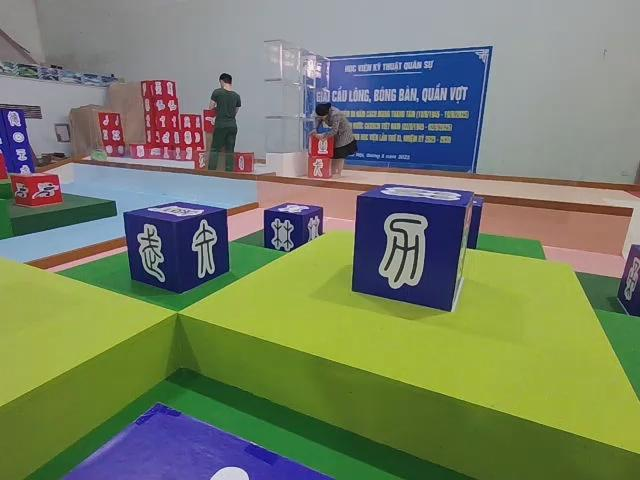R2 Fake Blue: (353, 187, 474, 317), (125, 202, 233, 298)
R2 Real Blue: (262, 203, 323, 253), (618, 243, 640, 329)
